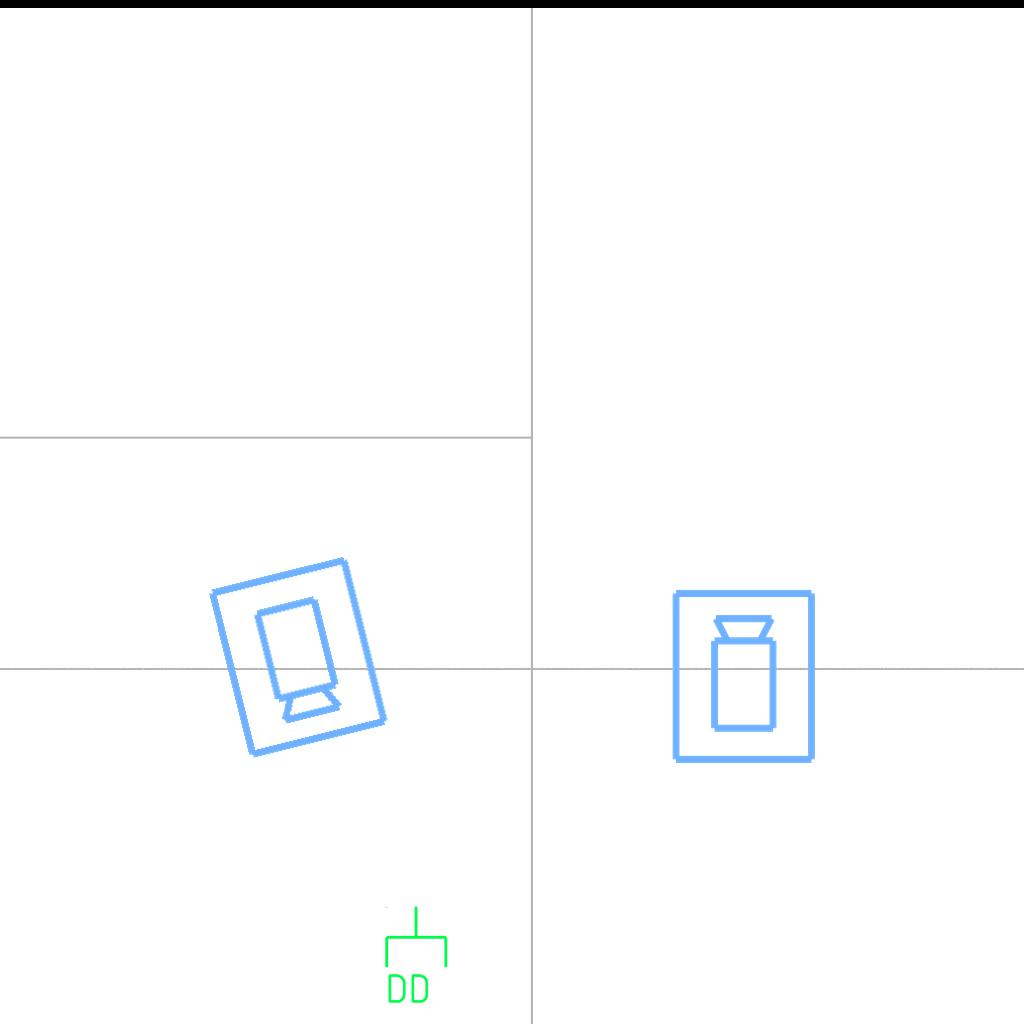Datenanschluss_zweifach: (381, 904, 450, 1007)
KFO_Kamera_mit_Festobjektiv: (200, 550, 394, 764), (668, 586, 822, 768)
